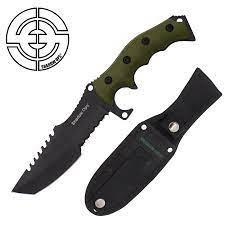Knife: (11, 15, 195, 196)
